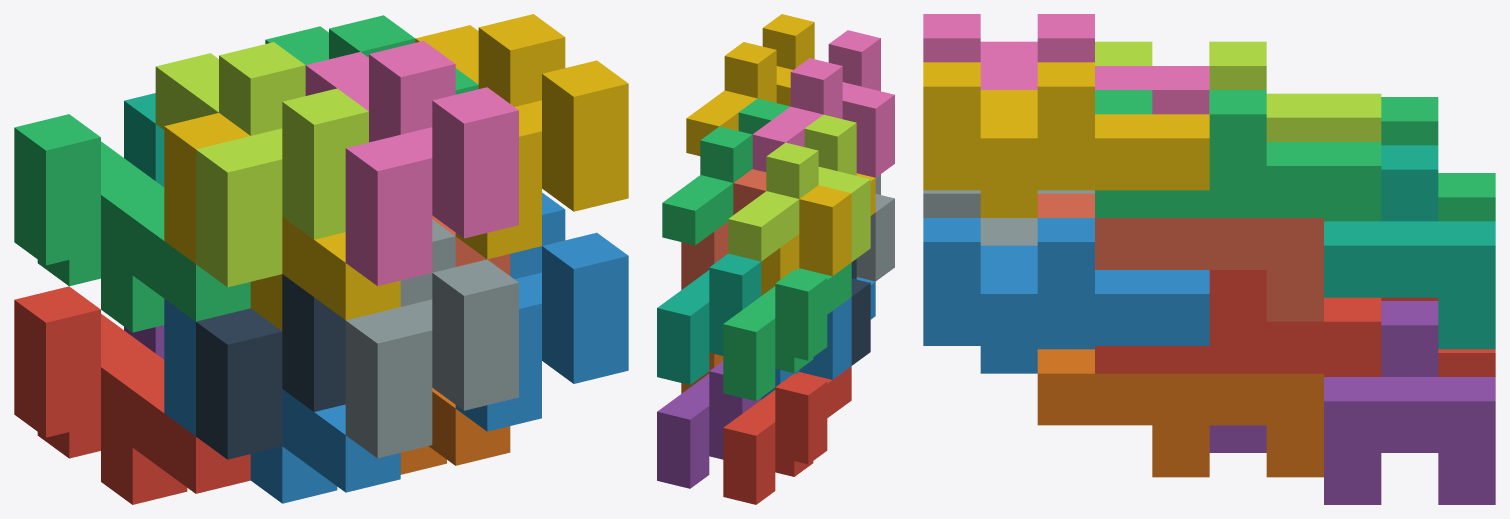
Rendered from tiling.obj.
3 views of the same model, side by side, from view 1: azimuth 30°, elevation 25°; view 2: azimuth 150°, elevation 25°; view 3: azimuth 270°, elevation 25° (orthographic). The views are drawn at different scales.
Parts seen in each view (by area): view 1: copy_2_domain_4, copy_2_domain_3, copy_1_domain_1, copy_1_domain_3, copy_2_domain_2, copy_2_domain_8, copy_2_domain_1, copy_2_domain_6, copy_1_domain_4, copy_1_domain_2, copy_2_domain_7, copy_1_domain_6 (+3 smaller); view 2: copy_2_domain_4, copy_2_domain_3, copy_1_domain_3, copy_1_domain_1, copy_1_domain_7, copy_2_domain_8, copy_2_domain_7, copy_1_domain_5, copy_1_domain_4, copy_1_domain_8, copy_1_domain_2, copy_2_domain_2 (+2 smaller); view 3: copy_2_domain_8, copy_2_domain_6, copy_1_domain_5, copy_1_domain_6, copy_2_domain_7, copy_1_domain_7, copy_2_domain_5, copy_1_domain_8, copy_2_domain_4, copy_2_domain_3, copy_1_domain_3, copy_2_domain_2 (+1 smaller).
Part boxes in pixels (bbox=[...]): copy_2_domain_4: bbox=[305, 41, 518, 285]; copy_2_domain_3: bbox=[155, 42, 368, 287]; copy_1_domain_1: bbox=[14, 286, 250, 504]; copy_1_domain_3: bbox=[14, 114, 250, 332]; copy_2_domain_2: bbox=[345, 219, 518, 458]; copy_2_domain_8: bbox=[415, 14, 628, 259]; copy_2_domain_1: bbox=[196, 274, 345, 459]; copy_2_domain_6: bbox=[455, 192, 628, 431]; copy_1_domain_4: bbox=[164, 113, 400, 330]; copy_1_domain_2: bbox=[164, 299, 400, 503]; copy_2_domain_7: bbox=[265, 15, 478, 94]; copy_1_domain_6: bbox=[400, 388, 510, 474]; copy_2_domain_4: bbox=[752, 30, 894, 177]; copy_2_domain_3: bbox=[728, 114, 870, 261]; copy_1_domain_3: bbox=[723, 262, 851, 400]; copy_1_domain_1: bbox=[723, 366, 851, 504]; copy_1_domain_7: bbox=[657, 253, 761, 384]; copy_2_domain_8: bbox=[686, 14, 814, 155]; copy_2_domain_7: bbox=[662, 98, 790, 245]; copy_1_domain_5: bbox=[657, 361, 761, 488]; copy_1_domain_4: bbox=[761, 173, 875, 295]; copy_1_domain_8: bbox=[681, 169, 766, 289]; copy_1_domain_2: bbox=[761, 277, 875, 399]; copy_2_domain_2: bbox=[856, 174, 894, 281]; copy_2_domain_8: bbox=[923, 62, 1209, 217]; copy_2_domain_6: bbox=[923, 218, 1209, 373]; copy_1_domain_5: bbox=[1209, 301, 1495, 504]; copy_1_domain_6: bbox=[1037, 349, 1323, 477]; copy_2_domain_7: bbox=[1095, 90, 1381, 217]; copy_1_domain_7: bbox=[1324, 145, 1495, 349]; copy_2_domain_5: bbox=[1095, 270, 1381, 373]; copy_1_domain_8: bbox=[1037, 193, 1323, 321]; copy_2_domain_4: bbox=[923, 14, 1209, 114]; copy_2_domain_3: bbox=[1095, 41, 1381, 141]; copy_1_domain_3: bbox=[1324, 97, 1495, 221]; copy_2_domain_2: bbox=[923, 190, 1094, 245].
Bounding box in the file's own units: 6 × 9 × 10.
